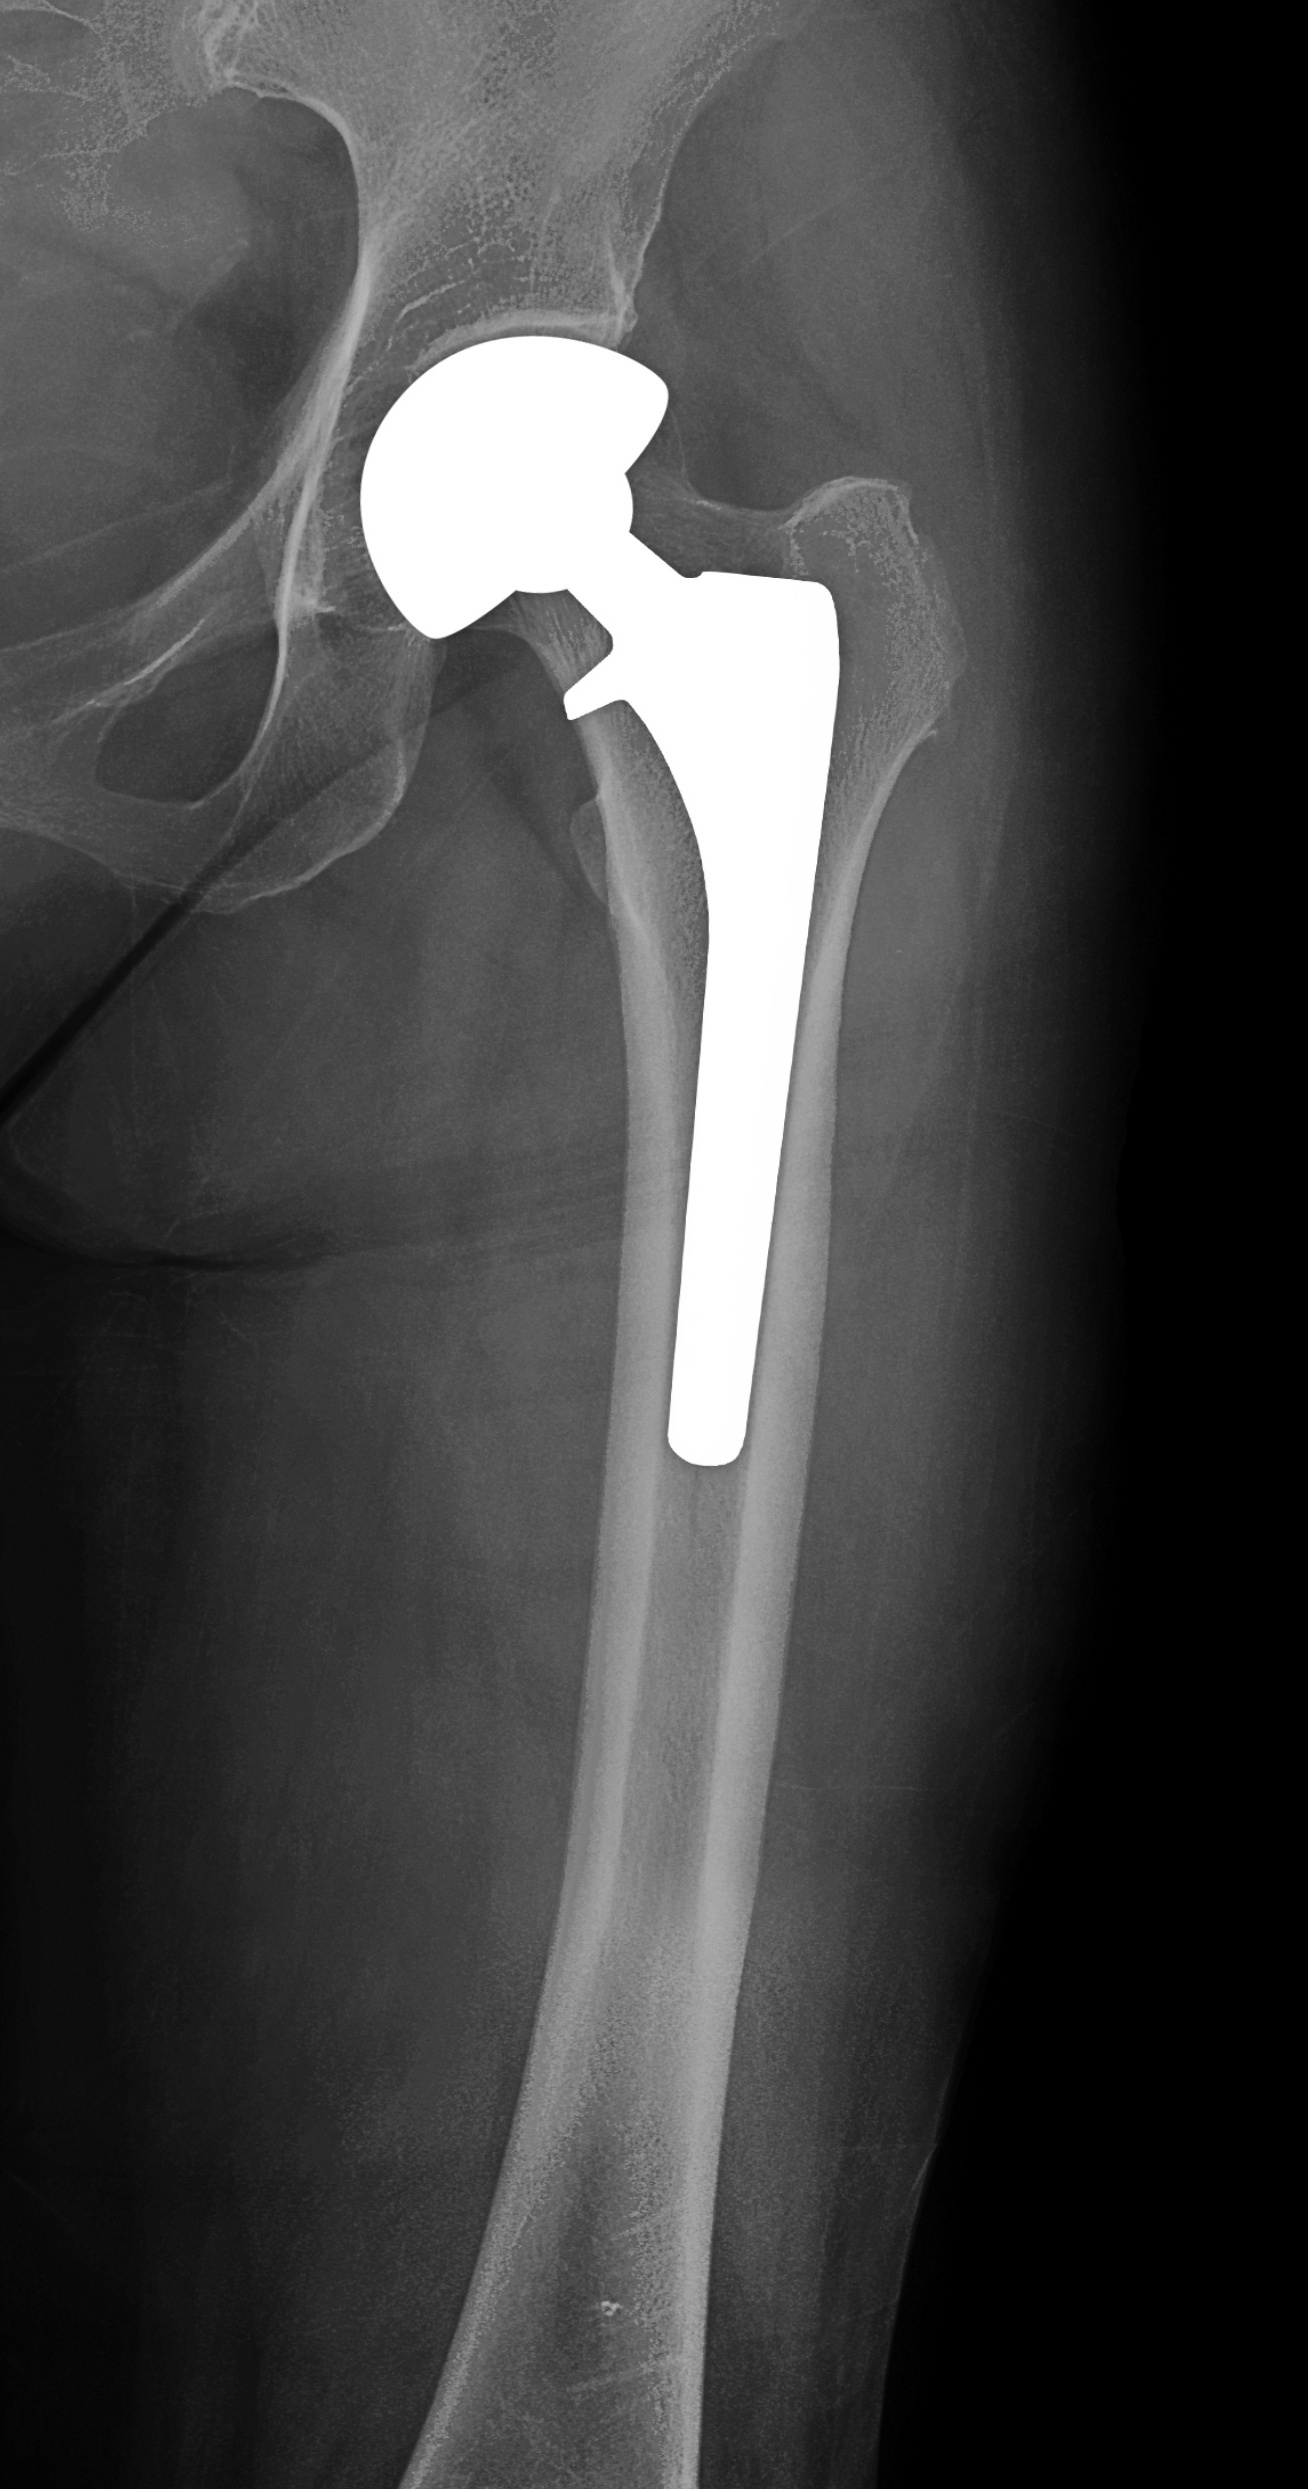Hip - APR - Zimmer: (247, 258, 885, 1569)
